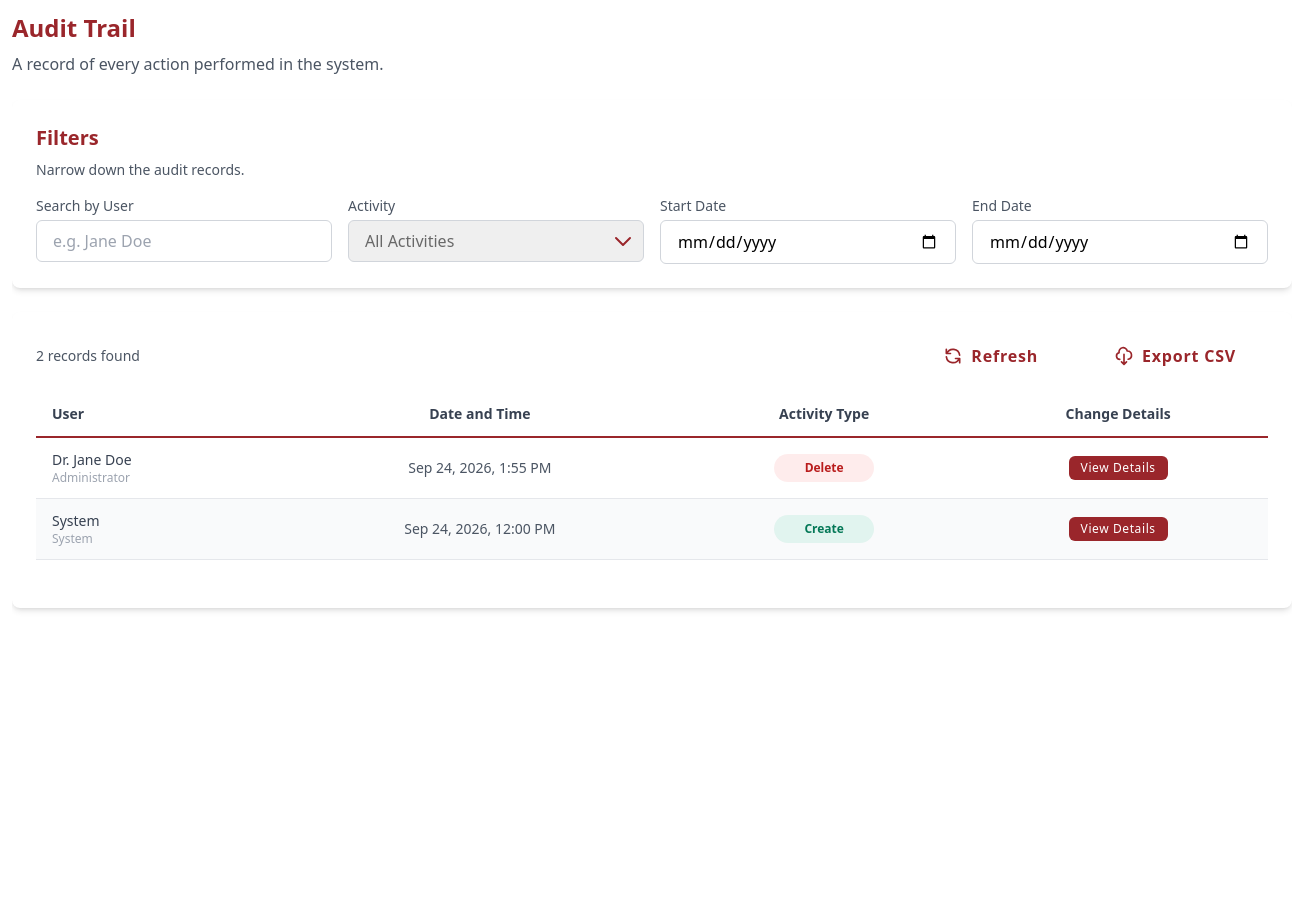
Test case: audit trail › server-side filters and export › flags a start date after the end date on the field and sends no request for it
Step 1. Type "2026-09-20" into the date field labelled "End Date" → {"x": 1120, "y": 242}, box left=972, top=220, right=1268, bottom=264
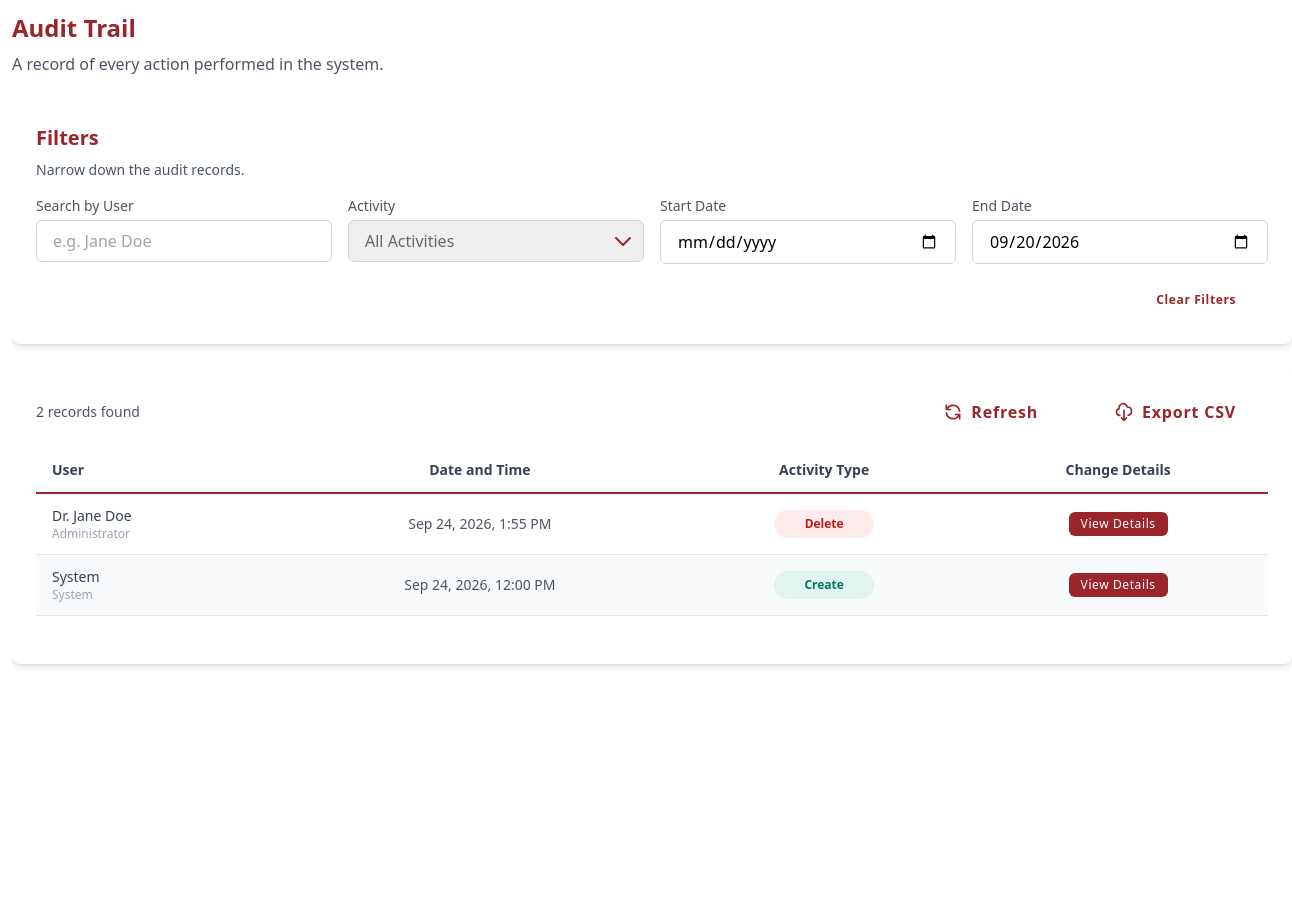
Step 2. Type "2026-09-24" into the date field labelled "Start Date" → {"x": 808, "y": 242}, box left=660, top=220, right=956, bottom=264
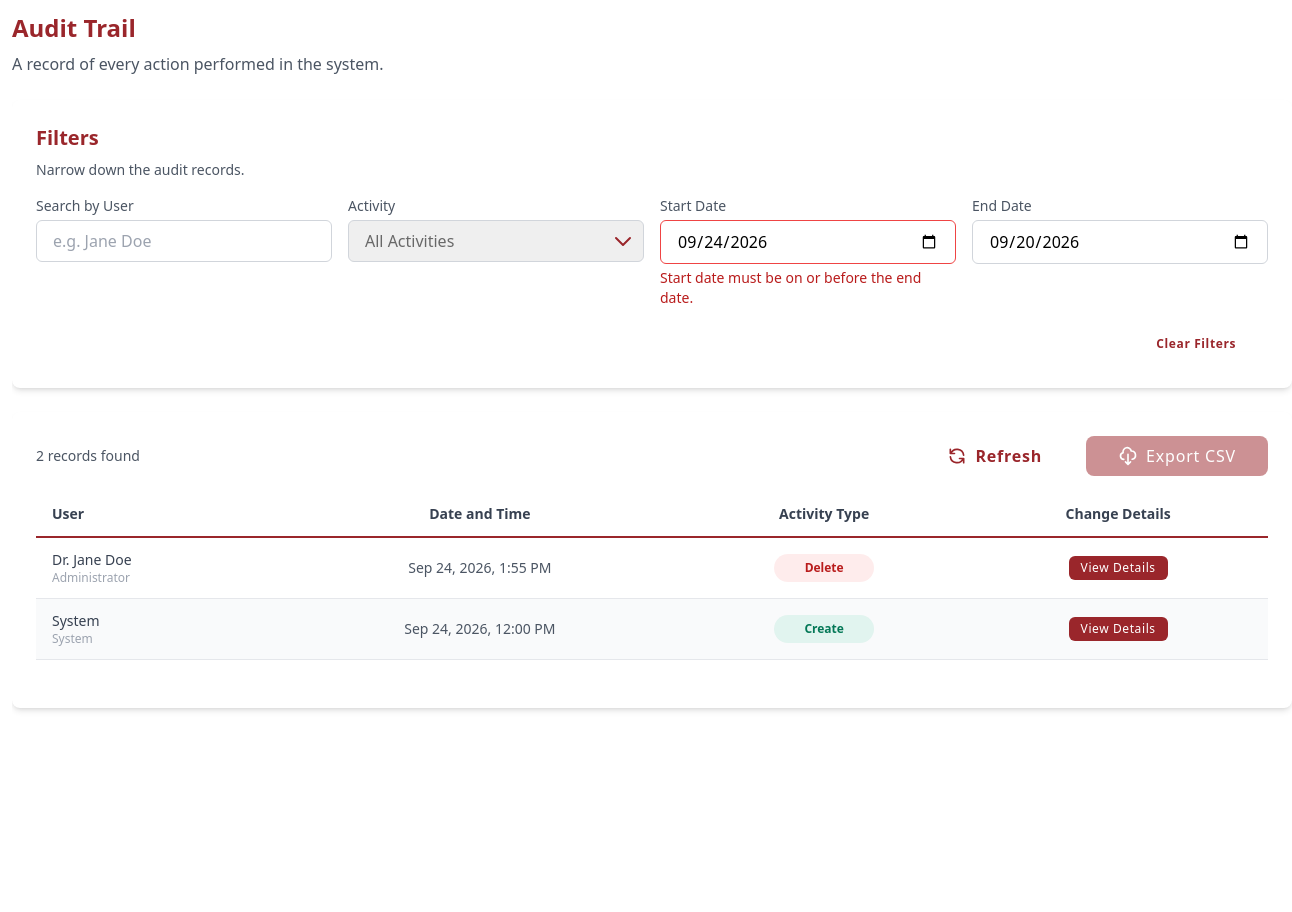
Expected: the button "Export CSV" is disabled, left=1086, top=436, right=1268, bottom=476
// Fixing the range clears the error and applies the filter
Step 3. Type "2026-09-18" into the date field labelled "Start Date" → {"x": 808, "y": 242}, box left=660, top=220, right=956, bottom=264
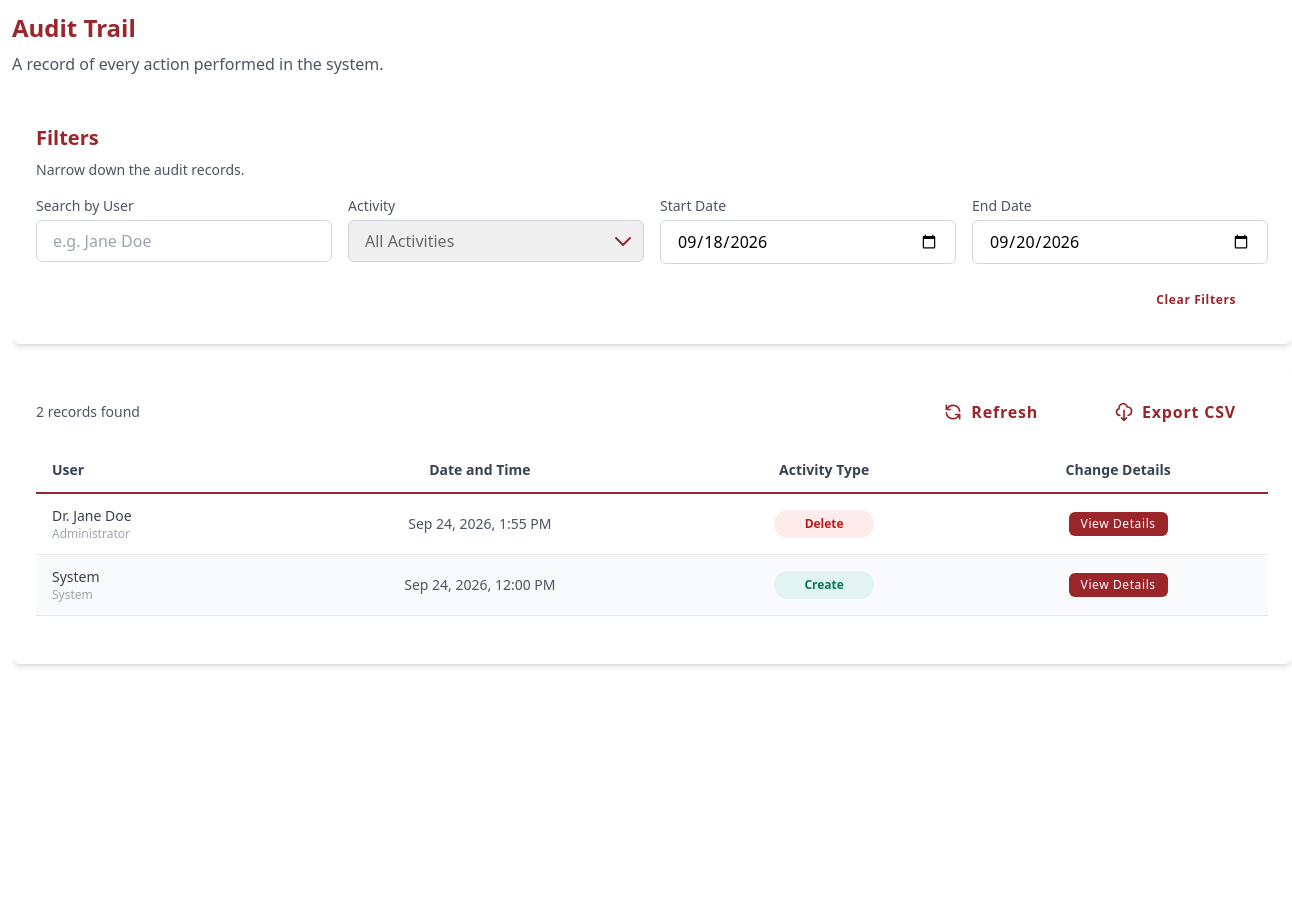
Expected: the text "Start date must be on or before the end date." is gone
